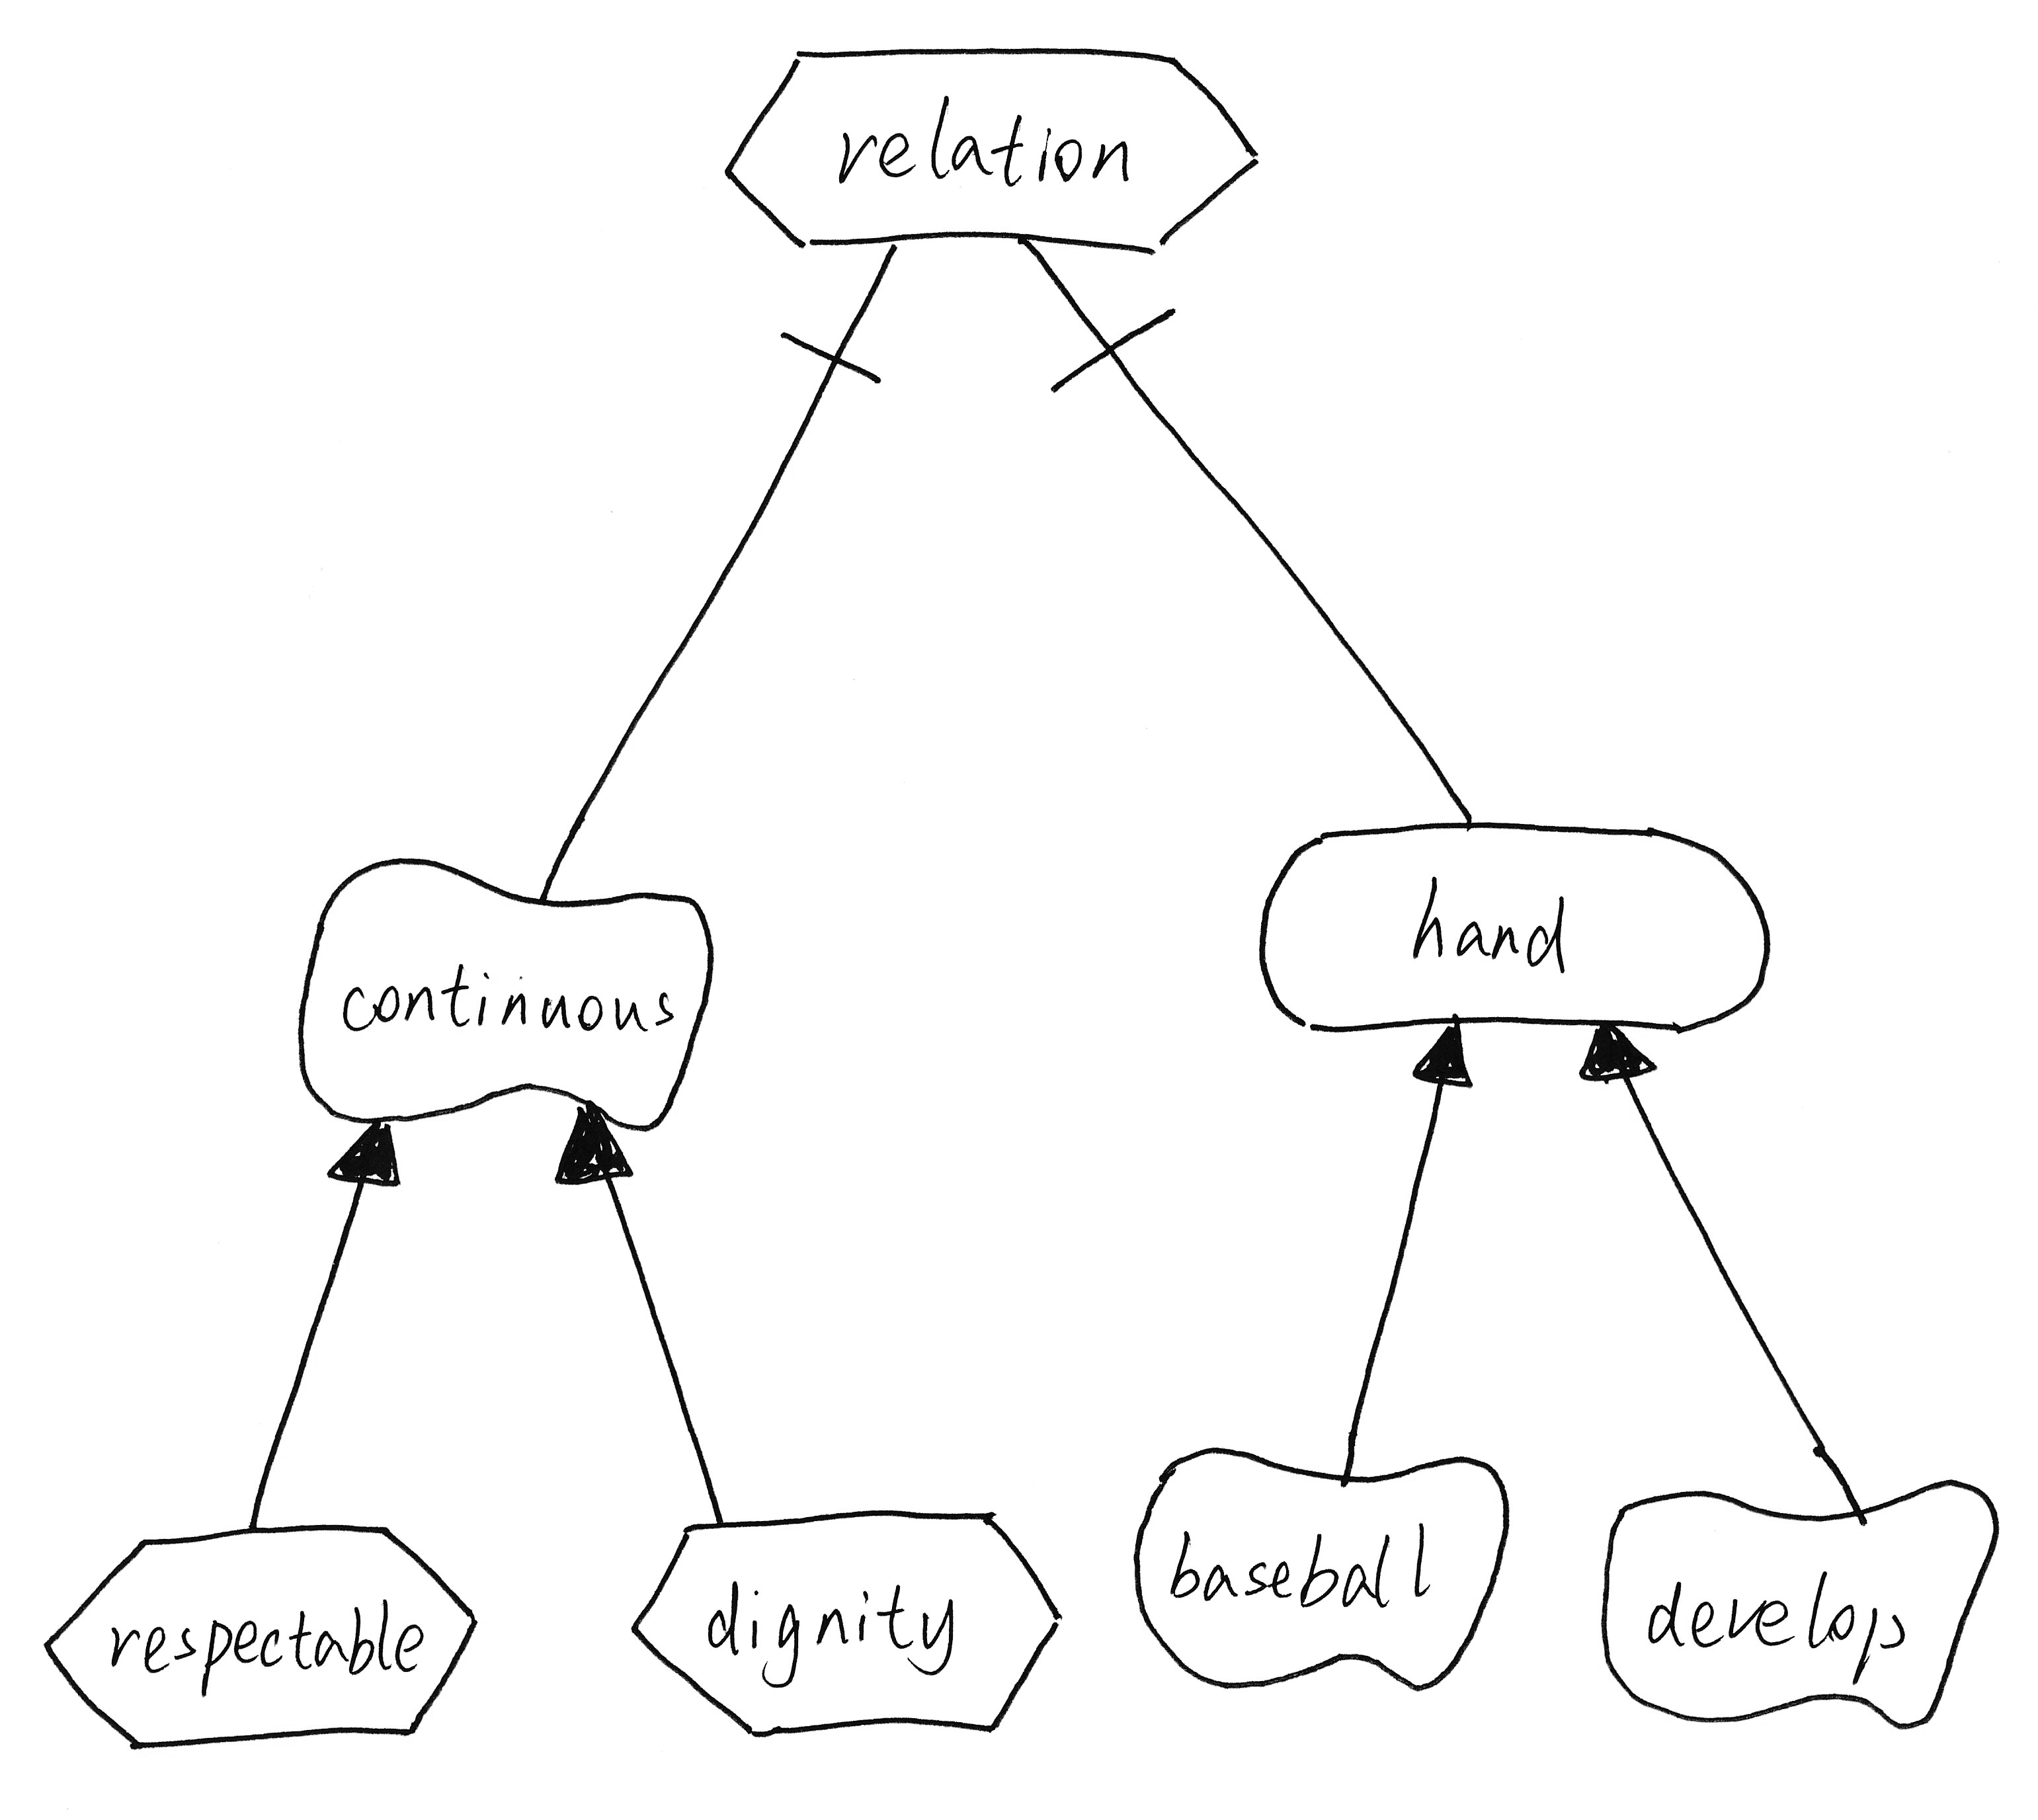and: (1008, 213, 1193, 402), (775, 235, 908, 392)
goal: (1240, 806, 1790, 1047)
or: (545, 1089, 645, 1202), (316, 1105, 420, 1202), (1569, 1010, 1666, 1094), (1406, 1000, 1485, 1100)
quality: (279, 838, 734, 1144), (1581, 1467, 2022, 1743), (1116, 1432, 1528, 1702)
task: (706, 25, 1281, 267), (19, 1507, 492, 1766), (613, 1490, 1073, 1748)
